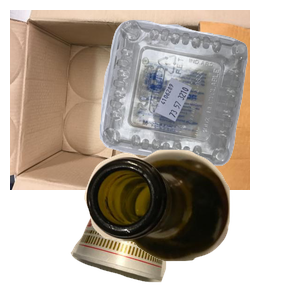cardboard: (10, 10, 250, 190)
glass: (82, 147, 300, 300)
plastic: (97, 17, 300, 176)
trash: (68, 158, 235, 300)
